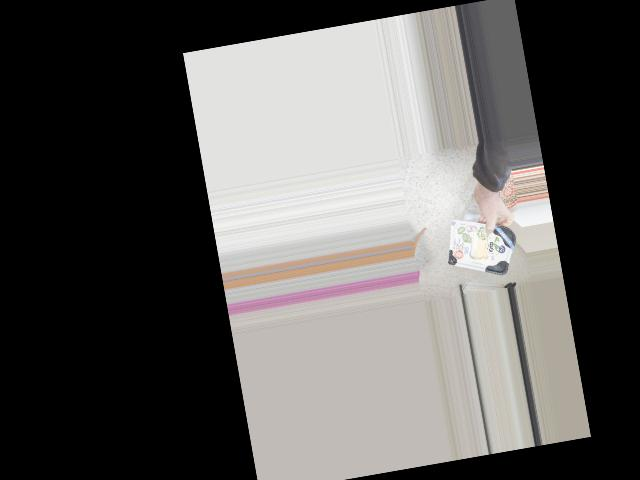cheese: (443, 216, 517, 274)
